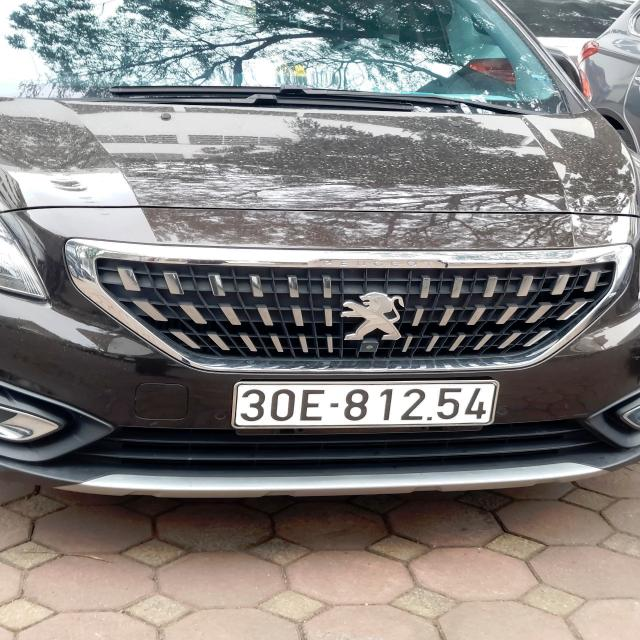license_plate: (235, 384, 498, 429)
